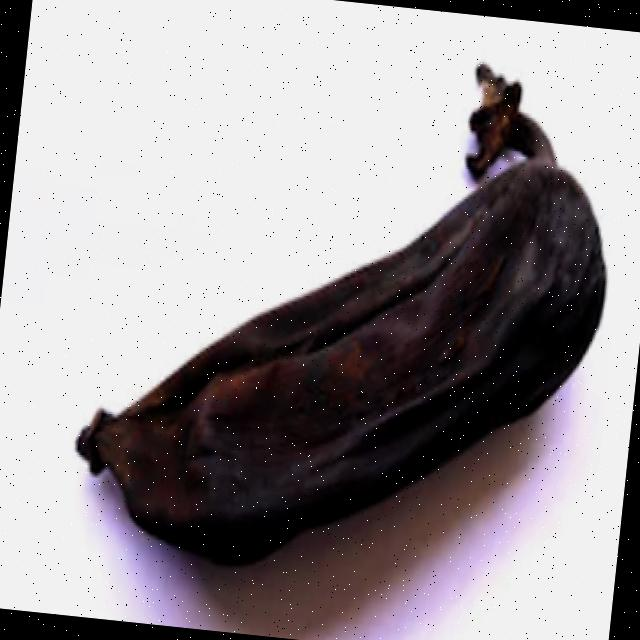rotten banana: (61, 0, 633, 596)
